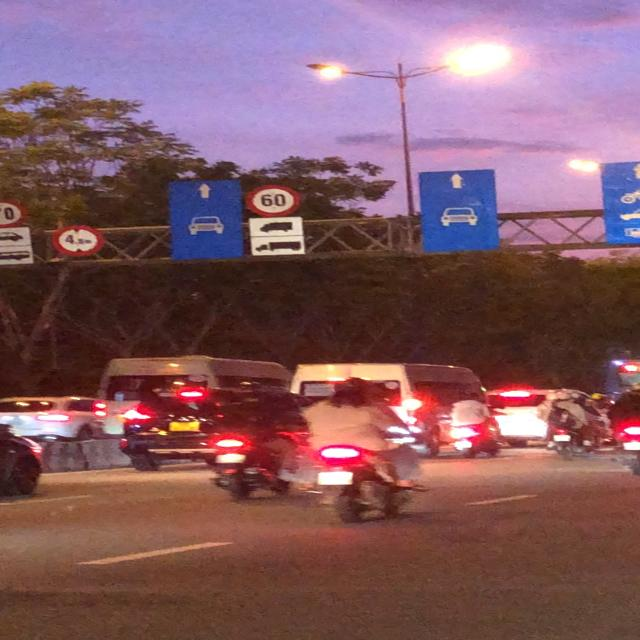Bien bao han che chieu cao: (49, 225, 108, 258)
Bien bao toc do toi da cho phep: (244, 184, 306, 219)
